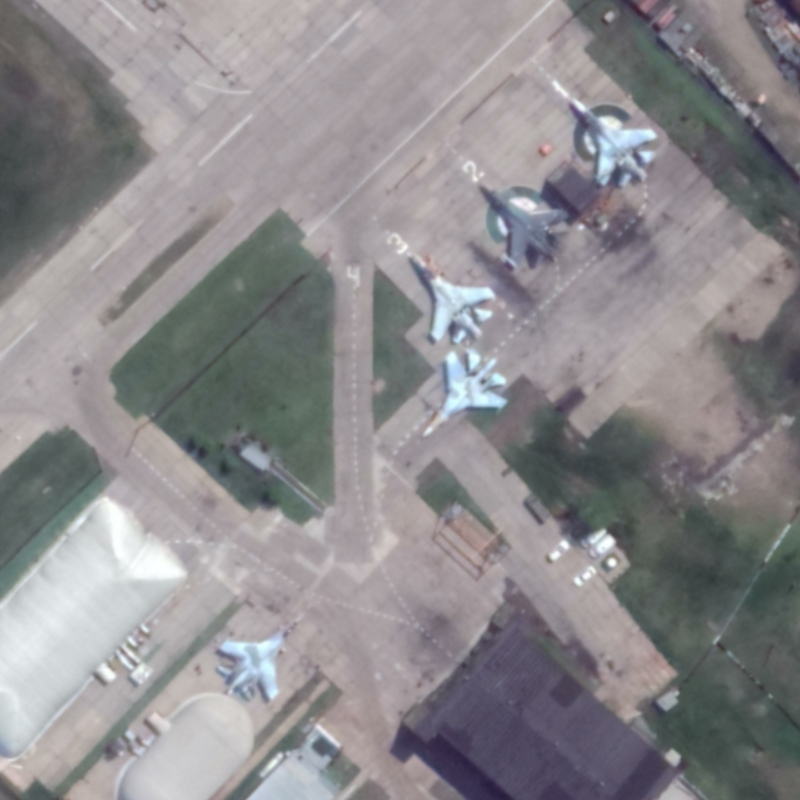A1: (563, 93, 660, 191), (474, 180, 574, 273), (214, 611, 309, 705), (419, 346, 512, 442), (404, 249, 497, 345)
